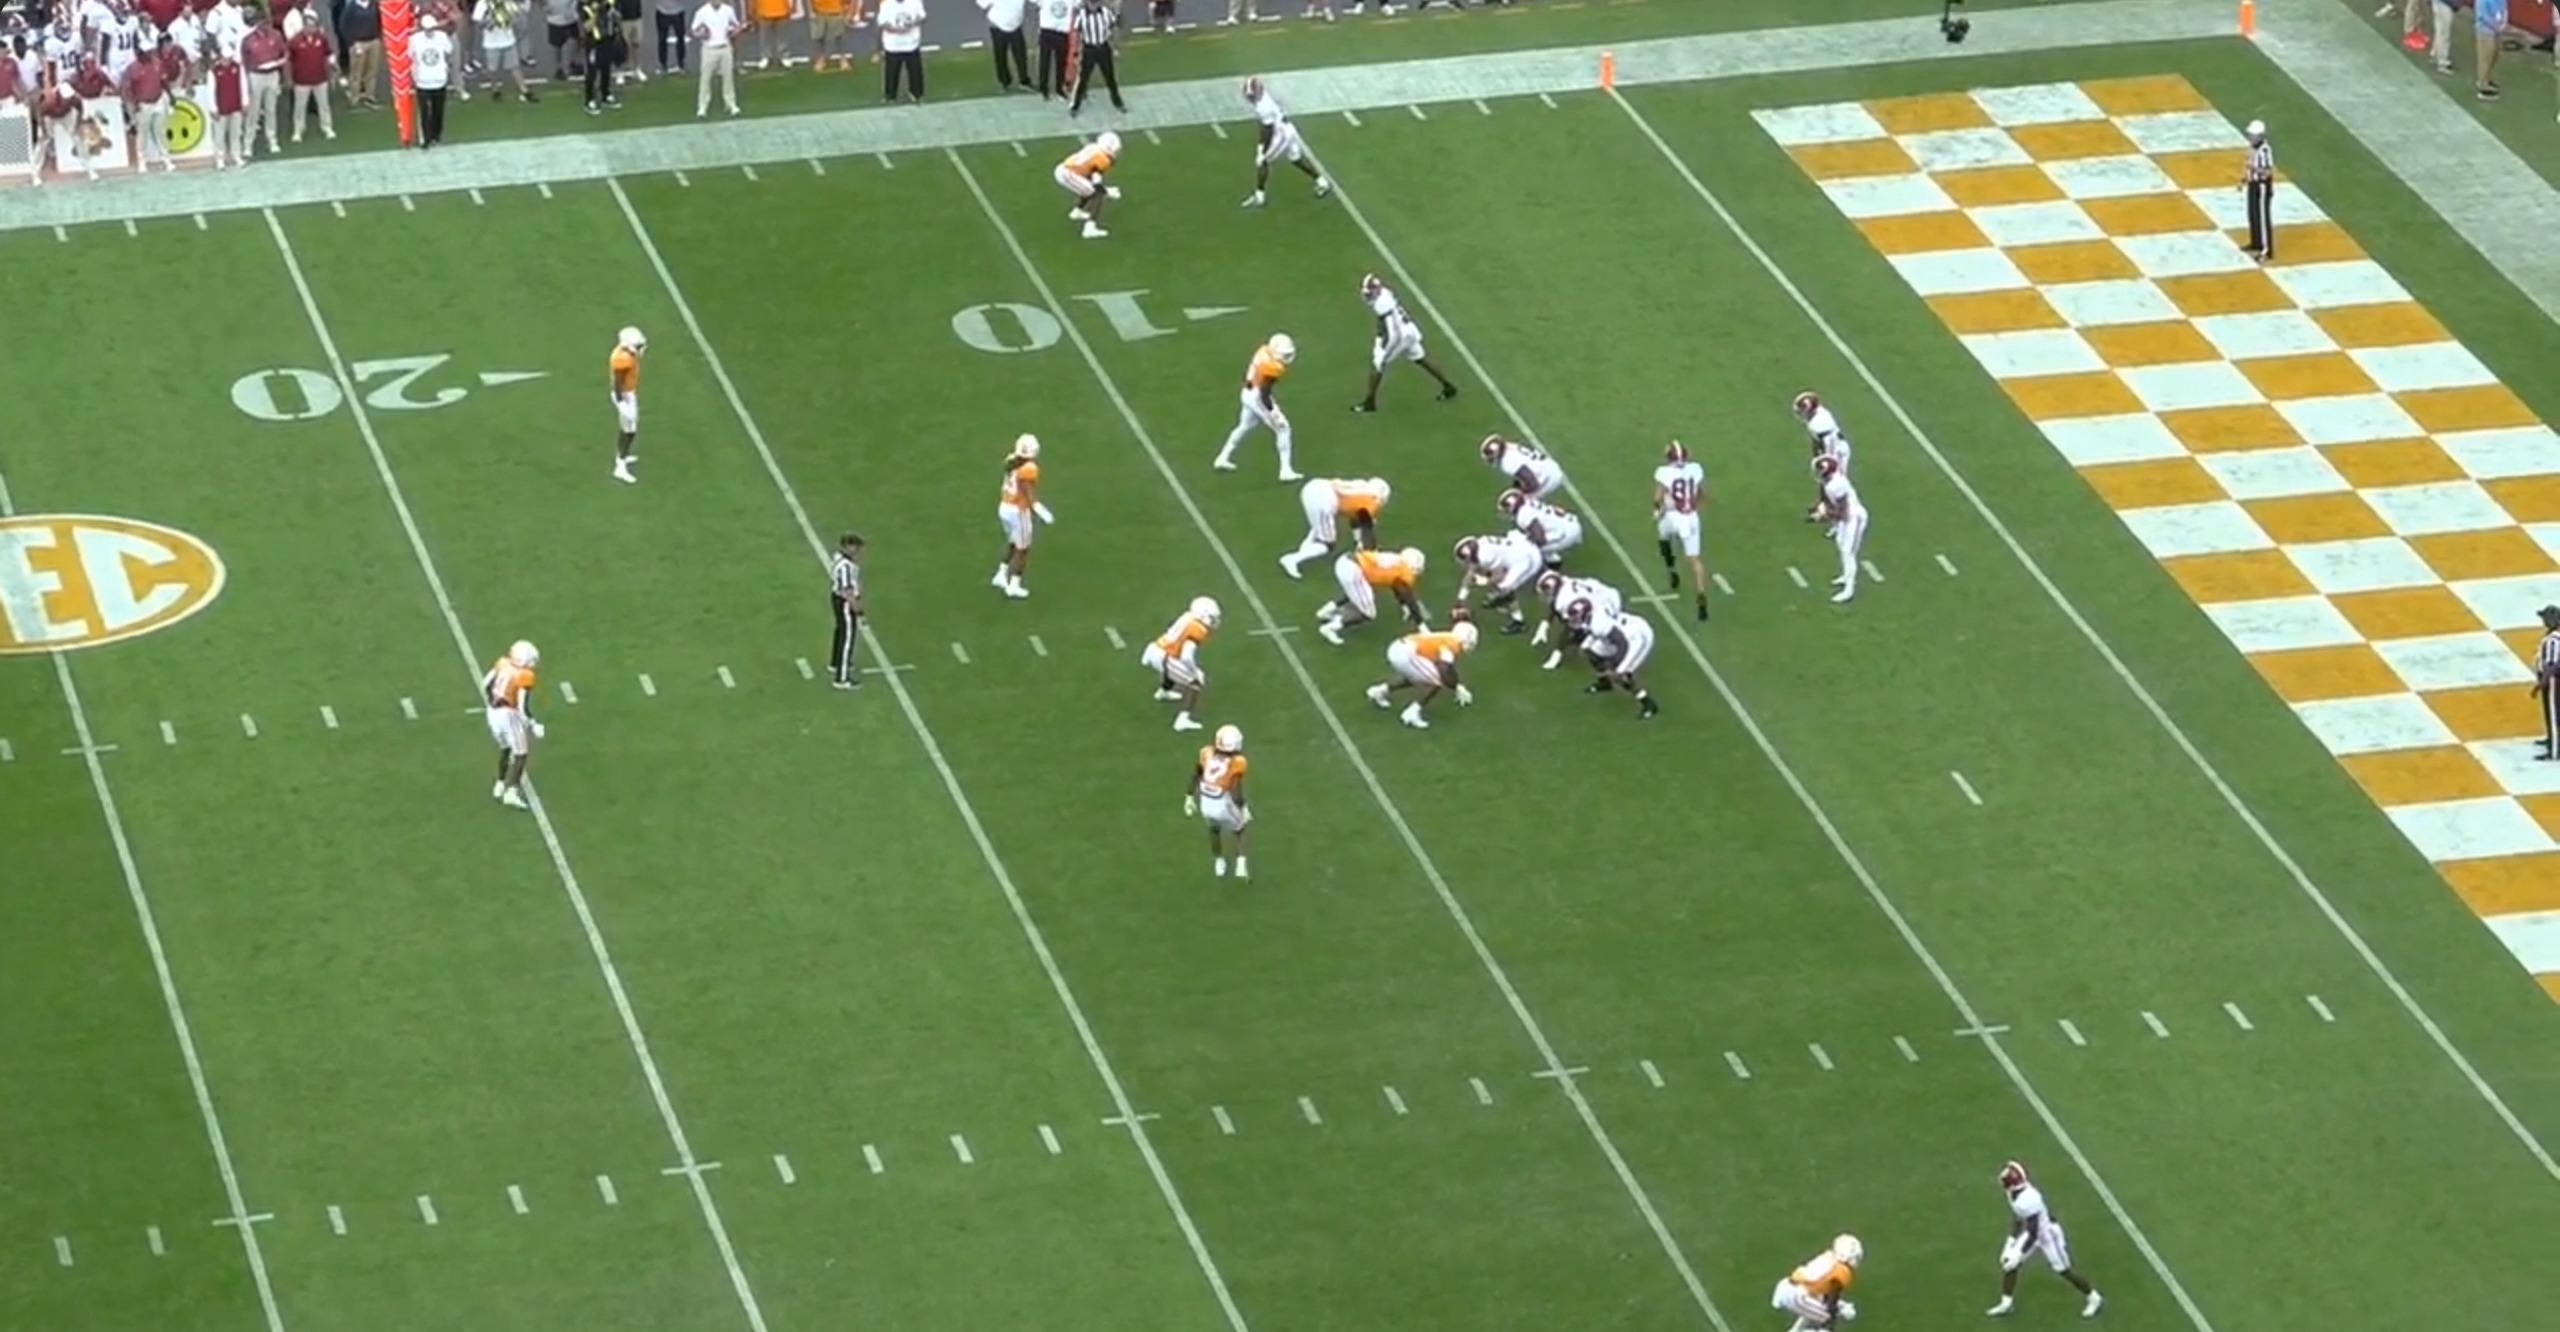player: (1986, 1162, 2122, 1330), (1355, 270, 1465, 420), (1223, 329, 1319, 487), (1246, 72, 1351, 211), (1267, 474, 1392, 586), (1638, 436, 1711, 620), (991, 427, 1062, 615), (1365, 627, 1485, 737), (1306, 544, 1429, 650), (1188, 714, 1263, 884), (487, 641, 558, 819), (1576, 596, 1671, 721), (1138, 590, 1220, 734), (1438, 536, 1541, 643), (1801, 457, 1870, 616), (587, 318, 648, 496), (1762, 1225, 1863, 1327), (1542, 567, 1635, 673), (1796, 394, 1856, 543), (1497, 492, 1587, 588), (1054, 133, 1124, 248), (1476, 433, 1566, 512)
ref: (821, 532, 881, 700), (1069, 0, 1136, 122), (2230, 113, 2279, 263), (2535, 606, 2560, 762)
